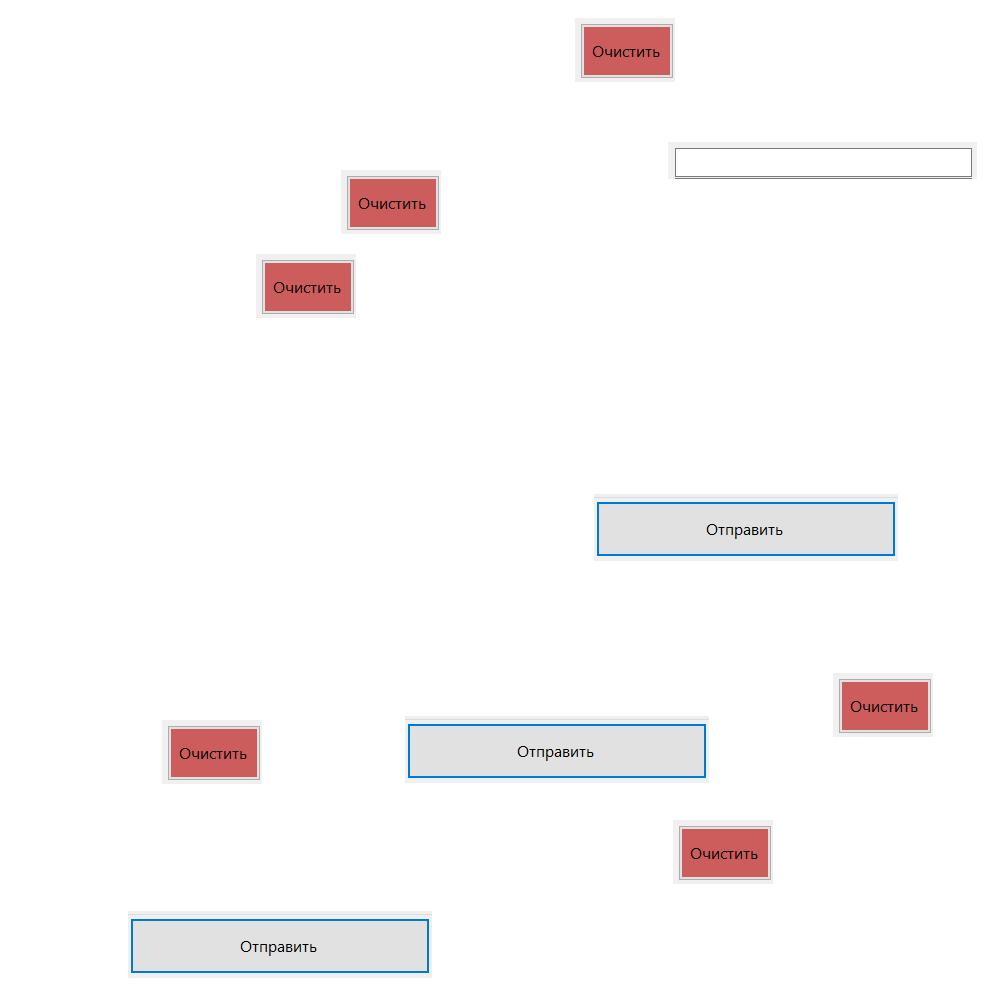Button: (405, 716, 709, 783), (594, 494, 898, 561), (128, 911, 432, 978), (673, 820, 773, 884), (341, 170, 441, 234), (833, 673, 933, 737), (575, 18, 675, 82), (162, 720, 262, 784), (256, 254, 356, 318)
EditText-: (668, 142, 977, 179)
